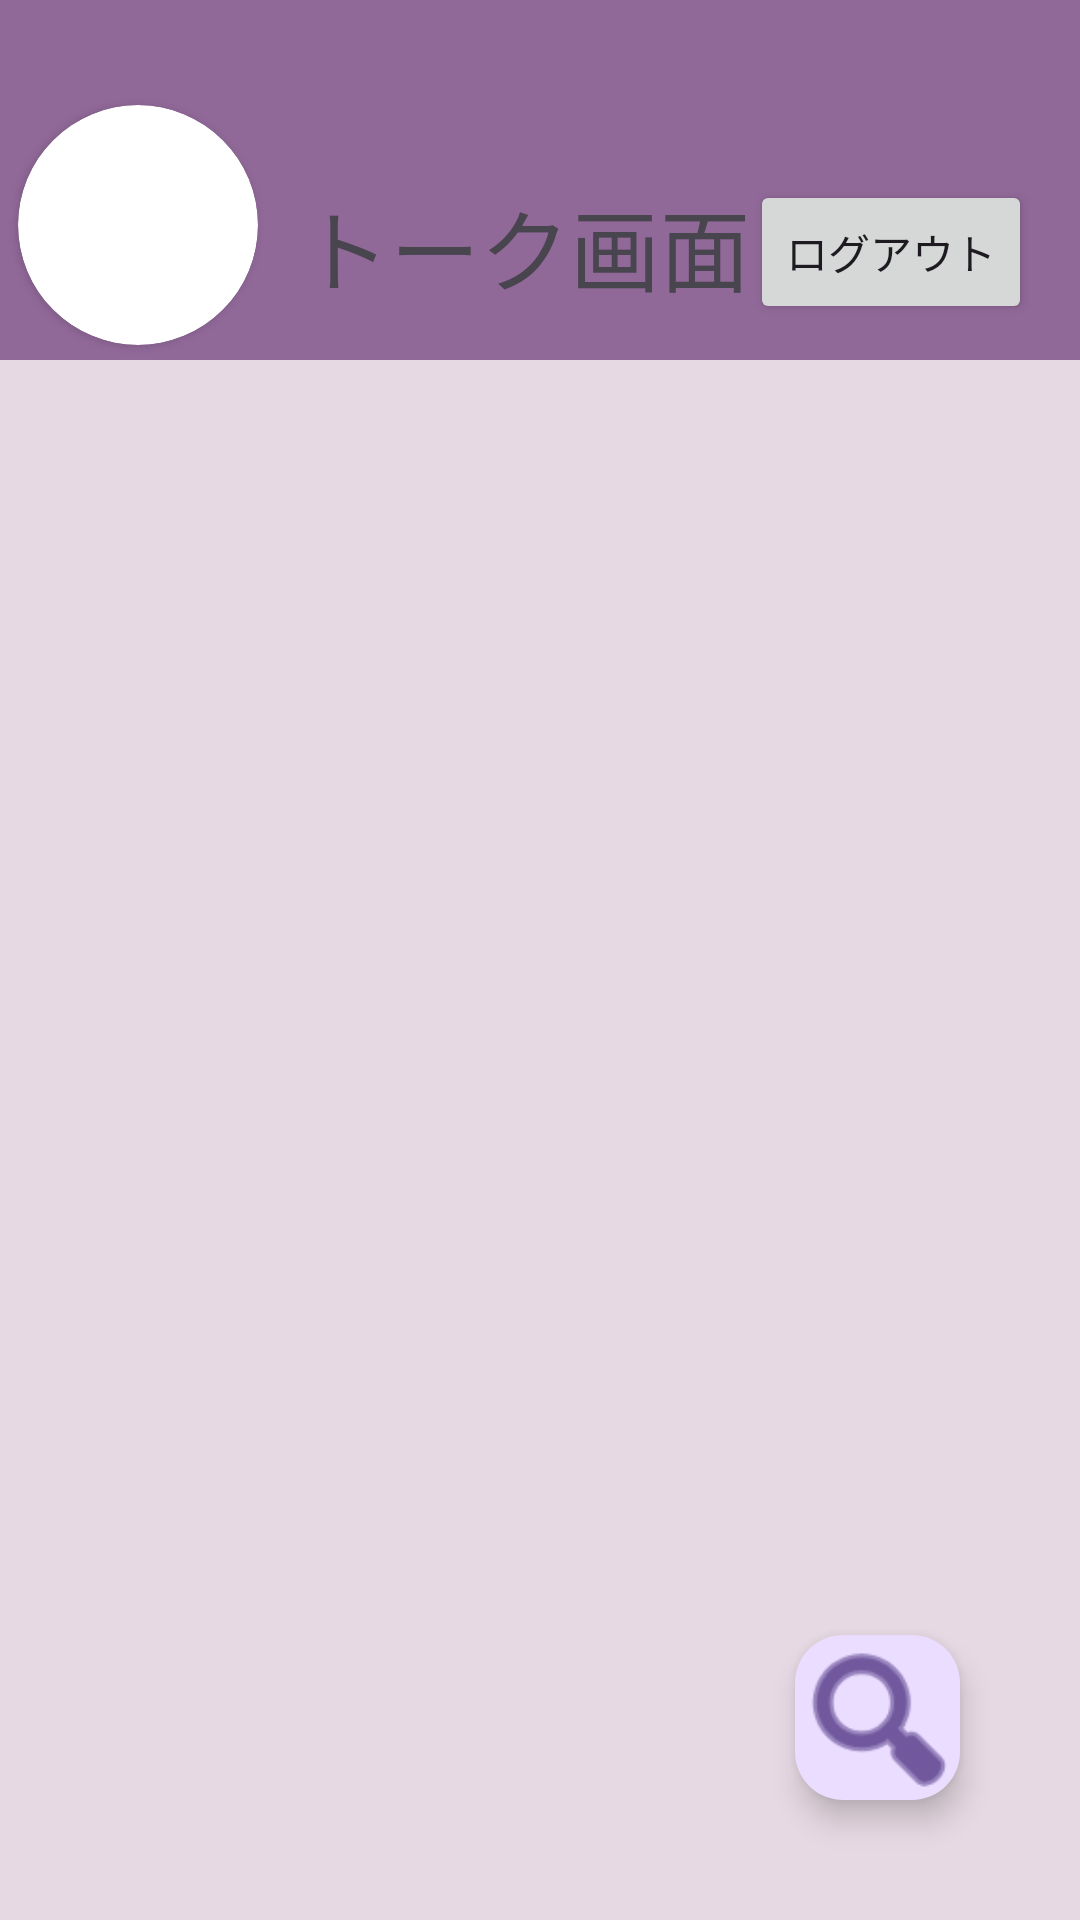

Icons on this 1080×1920 Android screen, each with the point to tap as point (x, y):
search: point (877, 1717)
